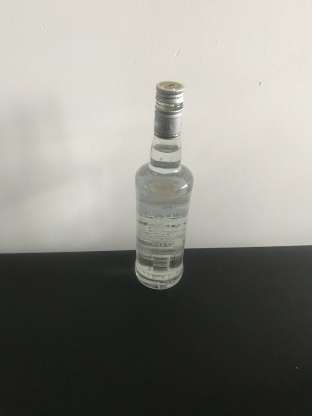nakretka: (152, 79, 185, 140)
